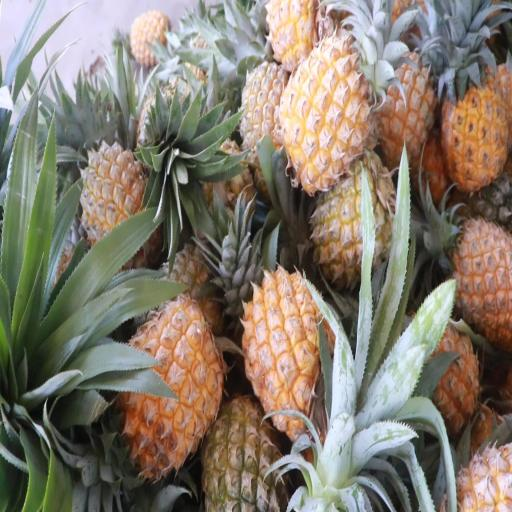------------------------------: (313, 163, 398, 284)
Pineapple - v8 v1: (108, 302, 222, 471), (241, 267, 332, 425), (282, 42, 369, 191), (398, 324, 475, 448), (436, 218, 512, 336), (440, 74, 509, 186), (372, 54, 438, 168), (266, 0, 323, 70)
